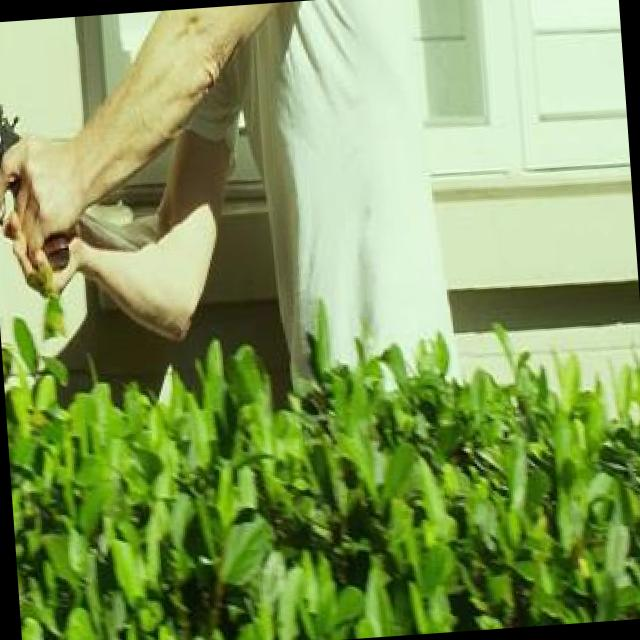Guns: (0, 78, 51, 212)
